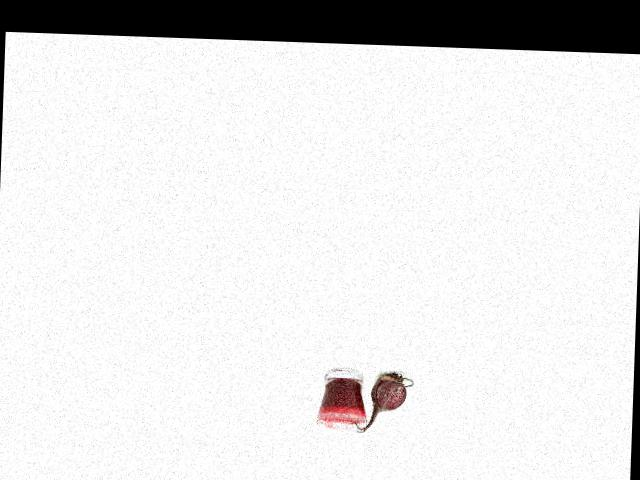beet: (348, 370, 413, 434)
